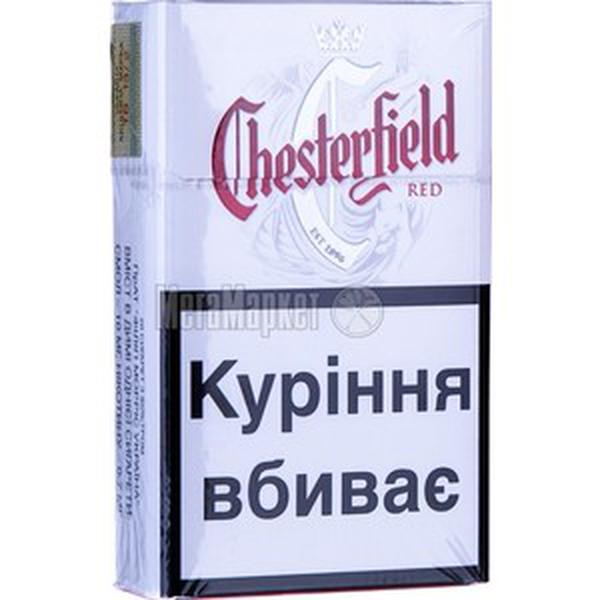chesterfield_red: (162, 1, 487, 591)
